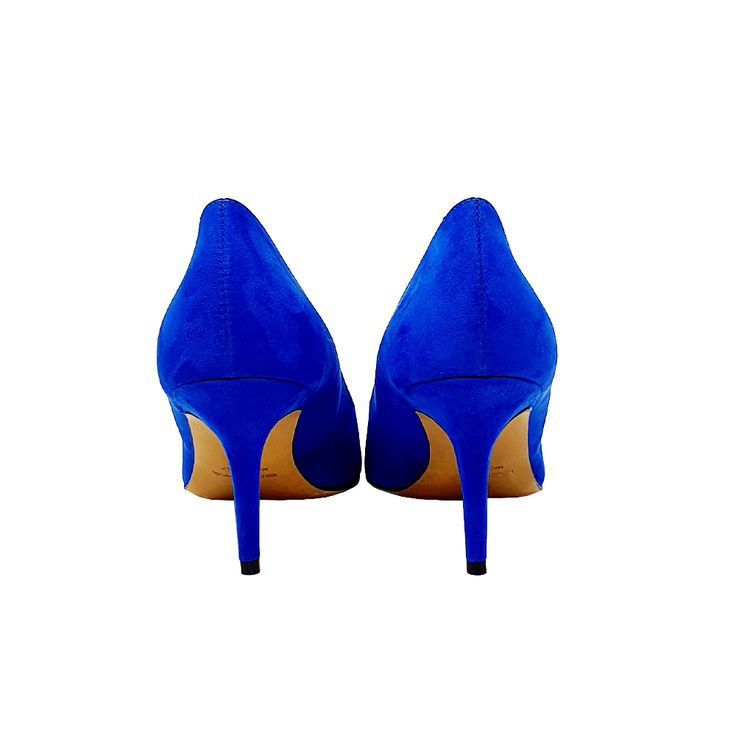gamuza: (157, 198, 557, 564)
